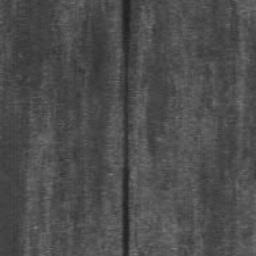Scratches: (120, 0, 131, 256)
